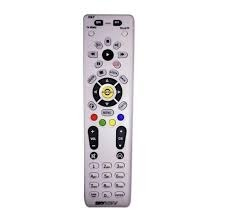remote control: (78, 14, 138, 208)
